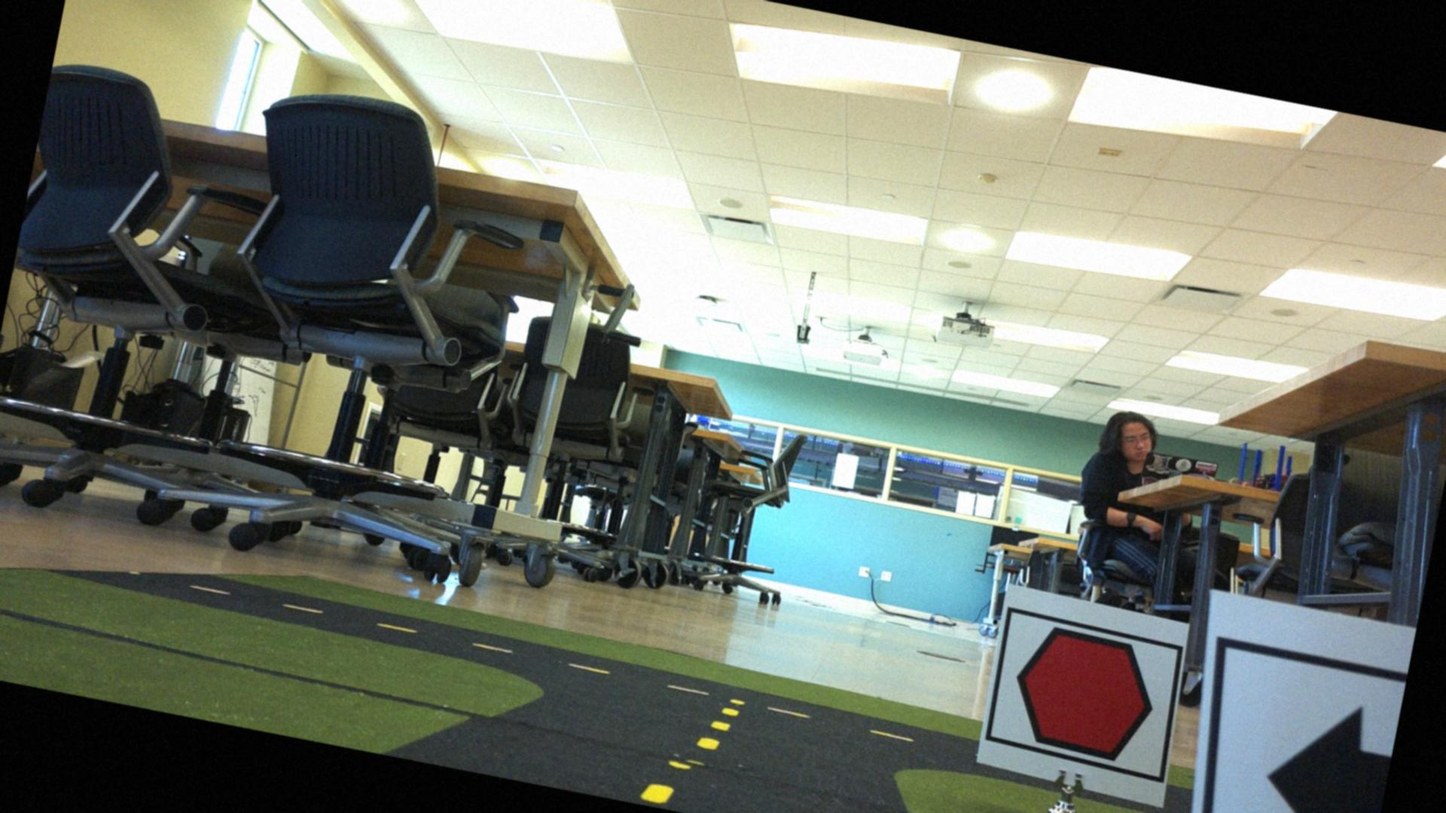stop: (989, 616, 1178, 774)
yellowline: (698, 701, 737, 755)
